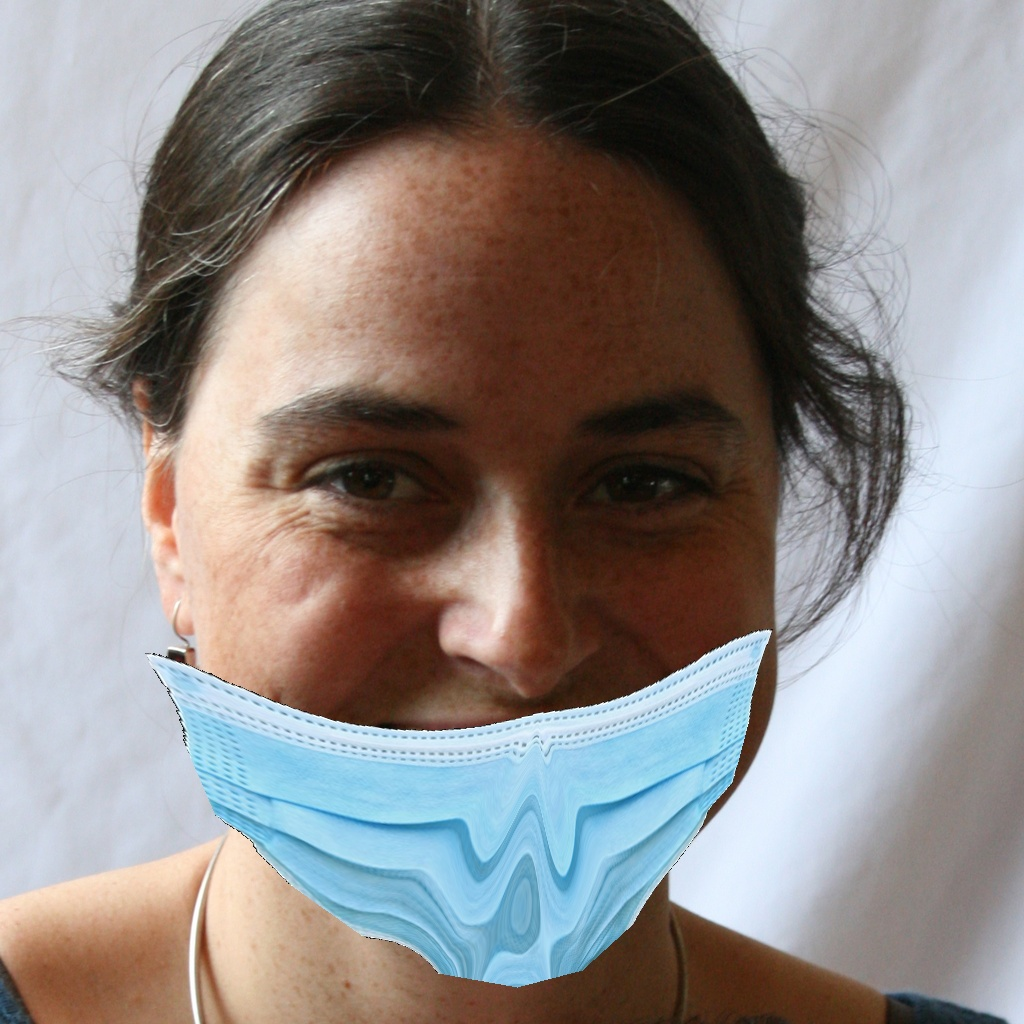mascarilla_mal_puesta: (209, 525, 804, 1024)
